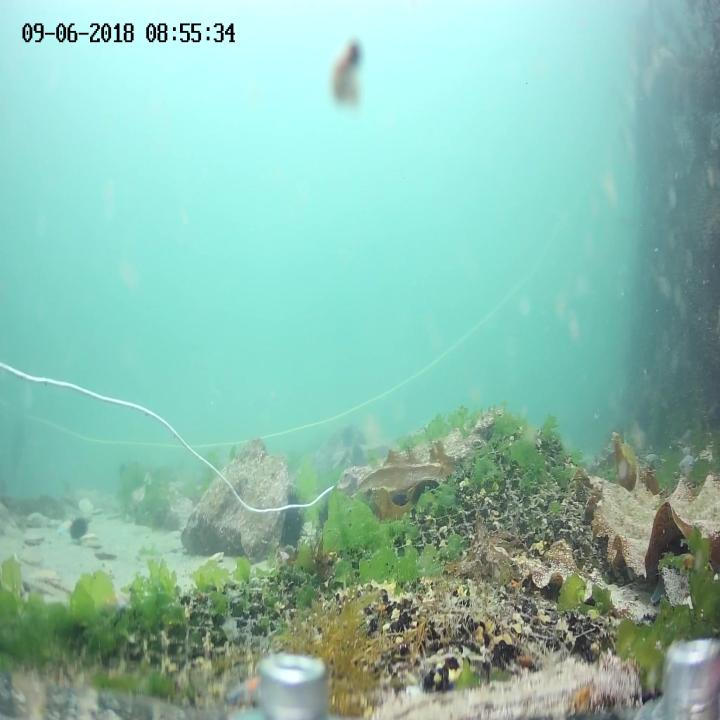echinus: (279, 493, 312, 548), (67, 518, 87, 540)
scallop: (14, 548, 45, 568), (97, 544, 117, 566), (77, 532, 98, 552), (22, 533, 46, 547)
starfish: (226, 670, 266, 710), (101, 582, 135, 618), (29, 570, 62, 588), (28, 513, 49, 531)
